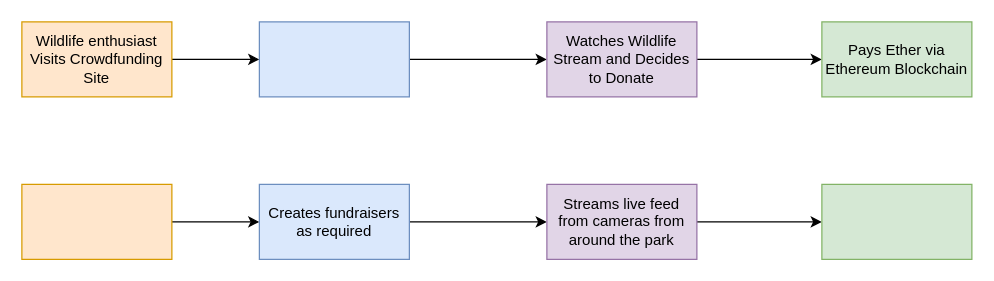
Image size: 994x281. Some labels were removed from this diagram. Each missing label, with the centre of its shape:
"Checks out Currently open Fundraisers" goes at point 333,59.
"Wildlife Preservation Organisation logs into admin account" goes at point 96,221.
"Withdraws Ether through Ethereum" goes at point 896,221.
